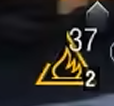2fire: (27, 52, 99, 91)
